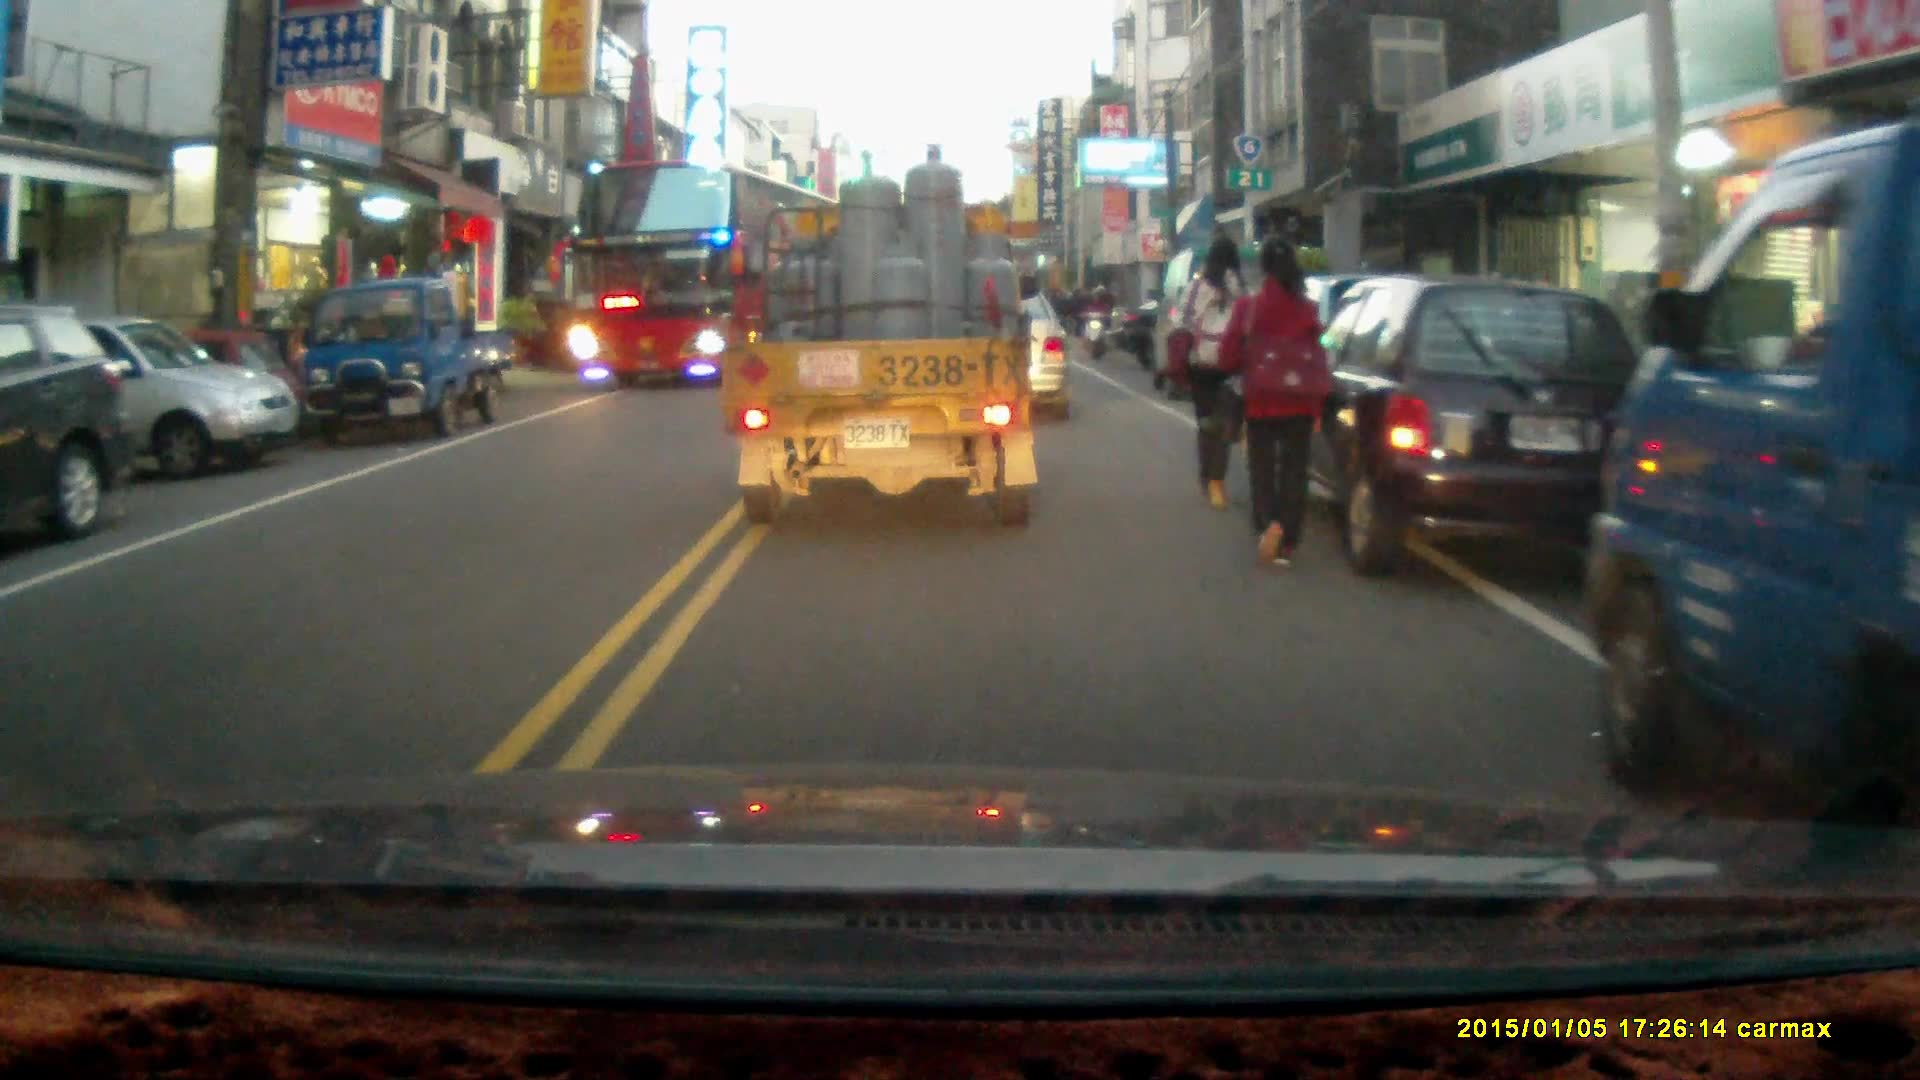pedestrian: (1216, 232, 1332, 571), (1172, 232, 1268, 510)
rider: (1079, 281, 1116, 360)
vehicle: (728, 141, 1048, 532), (1275, 276, 1666, 581), (570, 153, 848, 390), (1, 308, 305, 481), (300, 276, 518, 433), (1, 302, 141, 543)
